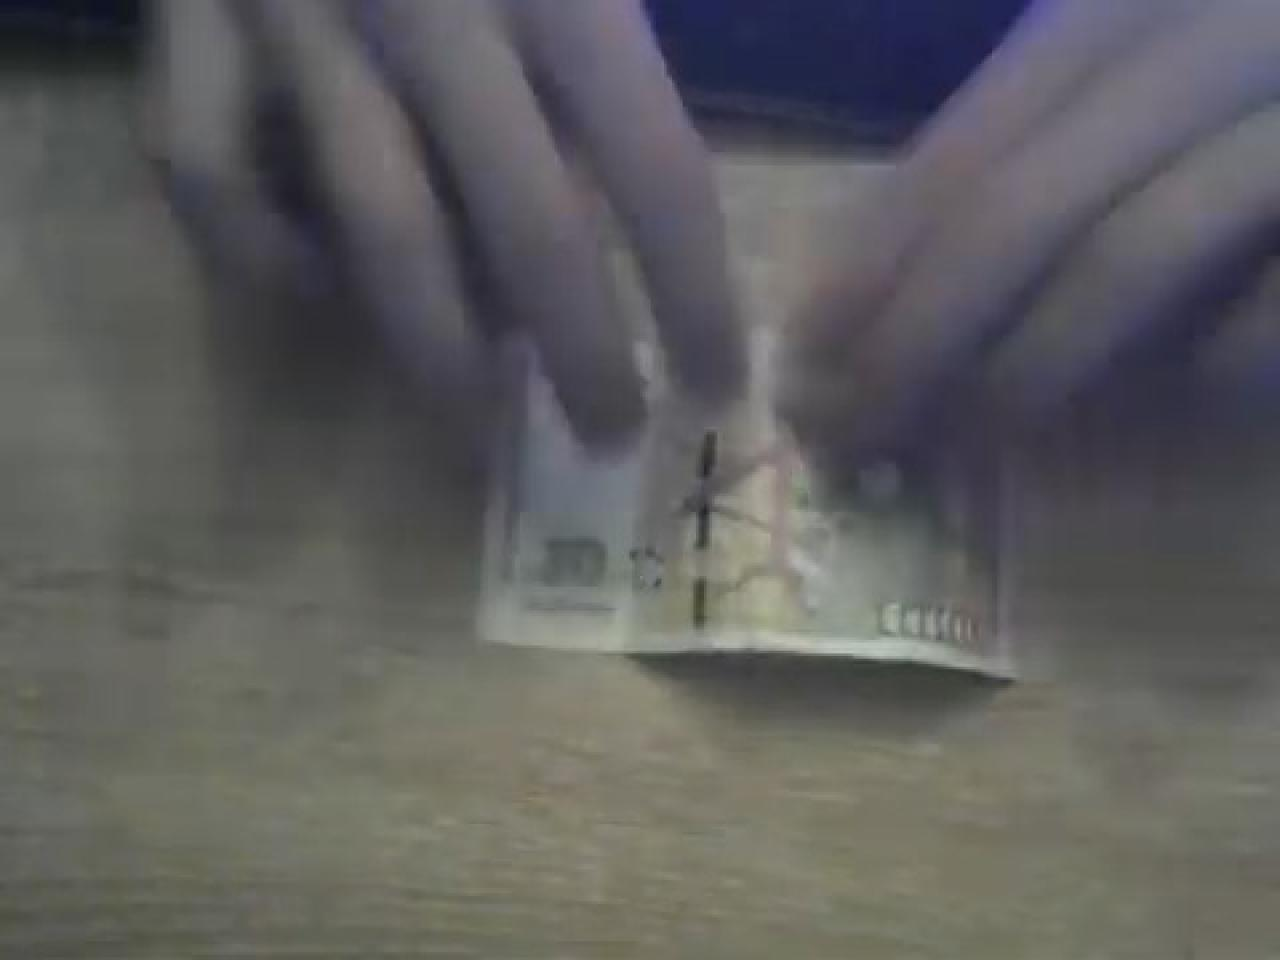10leva: (483, 368, 1013, 680)
